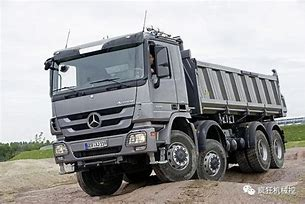bigtruck: (42, 29, 289, 183)
